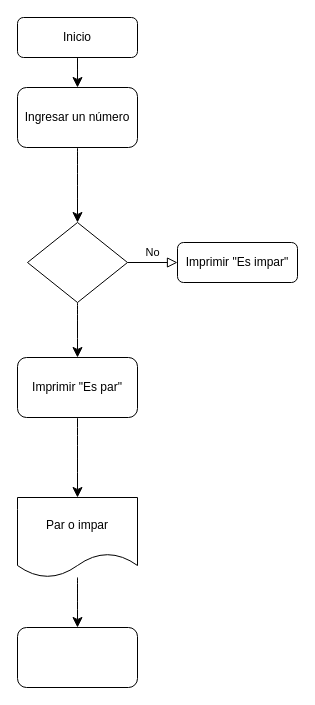
Some shapes in this 315 by 705 pixel diagram are drawn without their labels. Here are the shapes that lost their labels. From the top down, the centre of each, then its label:
At [77,262]: "Es par".
At [77,657]: "Fin".
